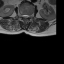CCS_normal: (24, 12, 26, 20)
LFS_normal: (28, 12, 30, 19)
LLS_normal: (26, 12, 28, 19)
RFS_normal: (20, 12, 22, 19)
RLS_normal: (22, 12, 24, 19)
